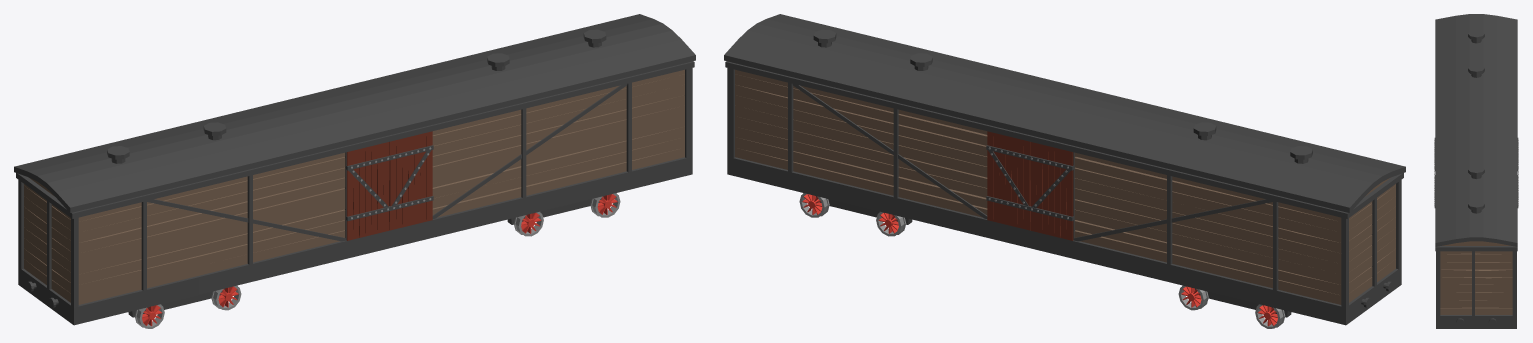
The model's file is Freight_wagon_1.fbx.
The picture shows the model from 3 angles, left to right: view 1: azimuth 30°, elevation 25°; view 2: azimuth 150°, elevation 25°; view 3: azimuth 270°, elevation 25°; orthographic projection. The views are drawn at different scales.
Visible parts, largest first — view 1: Freight_wagon_1; view 2: Freight_wagon_1; view 3: Freight_wagon_1.
Boxes of the visible parts, x1,y1,x2,y2 form: Freight_wagon_1: [14, 14, 695, 328]; Freight_wagon_1: [724, 14, 1405, 328]; Freight_wagon_1: [1434, 14, 1518, 328].
Size of the model in its own units: 1991 by 314 by 503.
